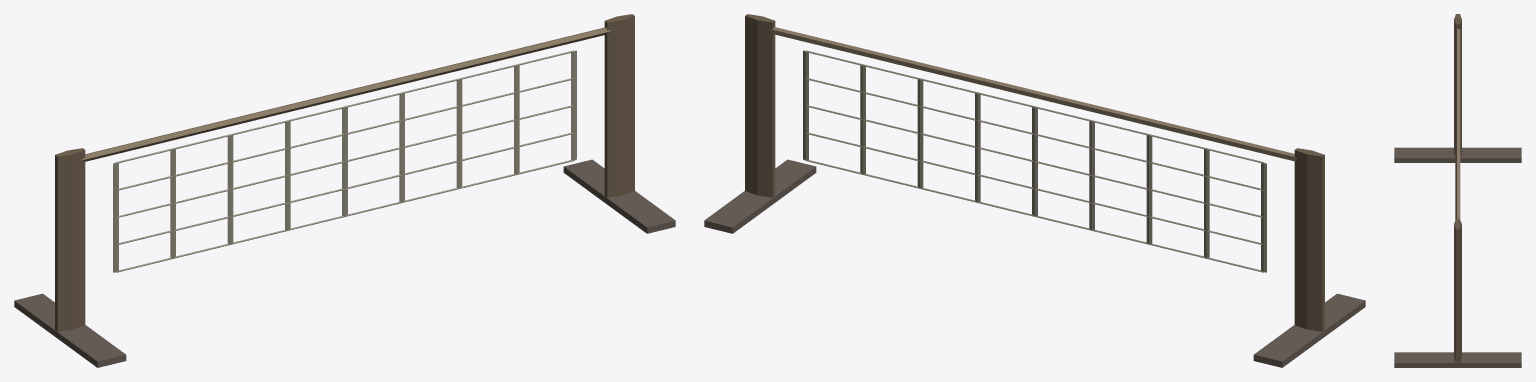
File: net_drying_rack.glb
The picture shows the model from 3 angles, left to right: view 1: azimuth 30°, elevation 25°; view 2: azimuth 150°, elevation 25°; view 3: azimuth 270°, elevation 25°; orthographic projection. The views are drawn at different scales.
Parts seen in each view (by area): view 1: net_drying_rack; view 2: net_drying_rack; view 3: net_drying_rack.
Part boxes in pixels (x1=…): net_drying_rack: x1=14, y1=14, x2=675, y2=367; net_drying_rack: x1=704, y1=14, x2=1365, y2=367; net_drying_rack: x1=1394, y1=14, x2=1521, y2=367.
Size of the model in its own units: 4 by 1.2 by 1.
